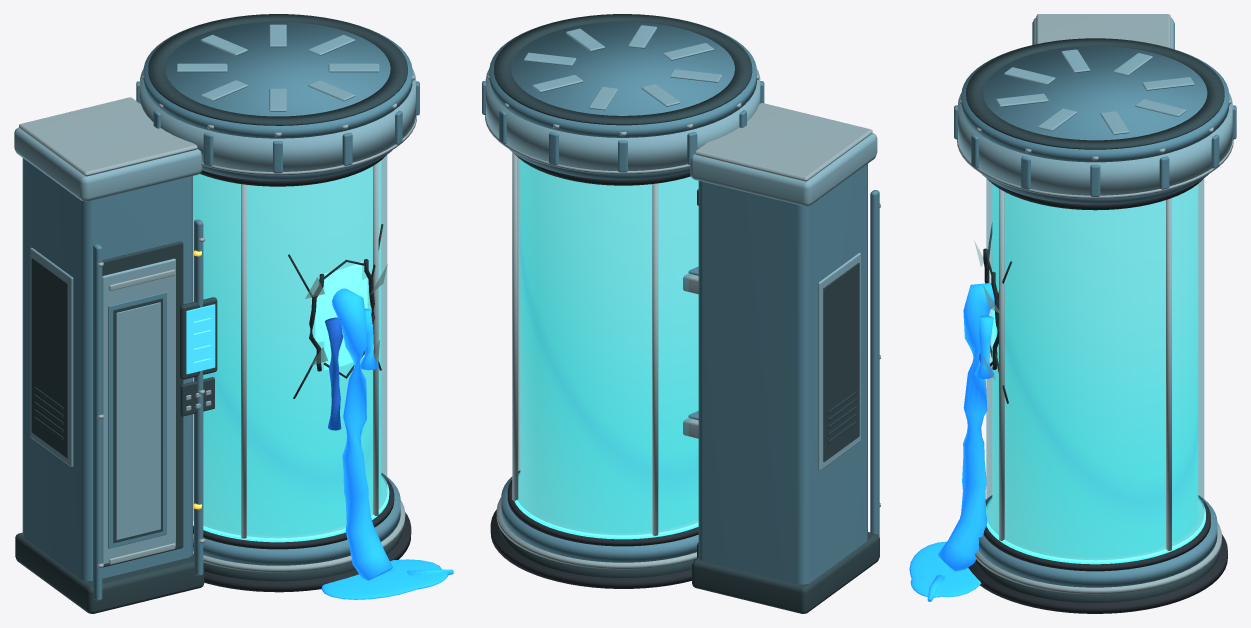
The model's file is BlueTube_BlueCrackedOozing.glb.
The picture shows the model from 3 angles, left to right: view 1: azimuth 30°, elevation 25°; view 2: azimuth 150°, elevation 25°; view 3: azimuth 270°, elevation 25°; orthographic projection.
Parts seen in each view (by area): view 1: Tube_Glossy_cobalt_blue_enamel, Tube_Cyan_energy_core, Tube_Cracked_cyan_glass_shell, Tube_Worn_light_blue_panels, Tube_Recessed_graphite, Tube_Polished_steel_edge, Tube_Electric_blue_ooze, Tube_Dark_rubber_gasket, Tube_Diagnostic_screen, Tube_Indicator_bright_cyan, Tube_Glass_fractures, Tube_Deep_blue_residue; view 2: Tube_Glossy_cobalt_blue_enamel, Tube_Cracked_cyan_glass_shell, Tube_Cyan_energy_core, Tube_Recessed_graphite, Tube_Worn_light_blue_panels, Tube_Polished_steel_edge, Tube_Dark_rubber_gasket, Tube_Indicator_bright_cyan; view 3: Tube_Cracked_cyan_glass_shell, Tube_Cyan_energy_core, Tube_Glossy_cobalt_blue_enamel, Tube_Worn_light_blue_panels, Tube_Polished_steel_edge, Tube_Electric_blue_ooze, Tube_Recessed_graphite, Tube_Dark_rubber_gasket, Tube_Indicator_bright_cyan, Tube_Glass_fractures.
Boxes of the visible parts, x1,y1,x2,y2 form: Tube_Glossy_cobalt_blue_enamel: (22, 19, 419, 600); Tube_Cyan_energy_core: (193, 160, 381, 535); Tube_Cracked_cyan_glass_shell: (193, 155, 387, 537); Tube_Worn_light_blue_panels: (14, 24, 416, 564); Tube_Recessed_graphite: (15, 14, 407, 613); Tube_Polished_steel_edge: (19, 74, 416, 572); Tube_Electric_blue_ooze: (321, 288, 453, 599); Tube_Dark_rubber_gasket: (193, 155, 411, 592); Tube_Diagnostic_screen: (186, 304, 215, 374); Tube_Indicator_bright_cyan: (193, 318, 389, 542); Tube_Glass_fractures: (288, 224, 383, 398); Tube_Deep_blue_residue: (325, 317, 343, 430); Tube_Glossy_cobalt_blue_enamel: (482, 20, 879, 584); Tube_Cracked_cyan_glass_shell: (517, 157, 698, 534); Tube_Cyan_energy_core: (520, 159, 698, 532); Tube_Recessed_graphite: (494, 14, 879, 613); Tube_Worn_light_blue_panels: (485, 25, 877, 470); Tube_Polished_steel_edge: (485, 74, 880, 569); Tube_Dark_rubber_gasket: (490, 153, 698, 588); Tube_Indicator_bright_cyan: (514, 473, 698, 539); Tube_Cracked_cyan_glass_shell: (986, 178, 1204, 559); Tube_Cyan_energy_core: (992, 184, 1198, 557); Tube_Glossy_cobalt_blue_enamel: (954, 45, 1236, 587); Tube_Worn_light_blue_panels: (957, 18, 1232, 195); Tube_Polished_steel_edge: (956, 14, 1233, 594); Tube_Electric_blue_ooze: (909, 283, 994, 601); Tube_Recessed_graphite: (966, 38, 1224, 602); Tube_Dark_rubber_gasket: (968, 178, 1227, 613); Tube_Indicator_bright_cyan: (986, 497, 1205, 564); Tube_Glass_fractures: (983, 223, 1012, 403).
Bounding box in the file's own units: 9.44 × 12.18 × 7.68.
